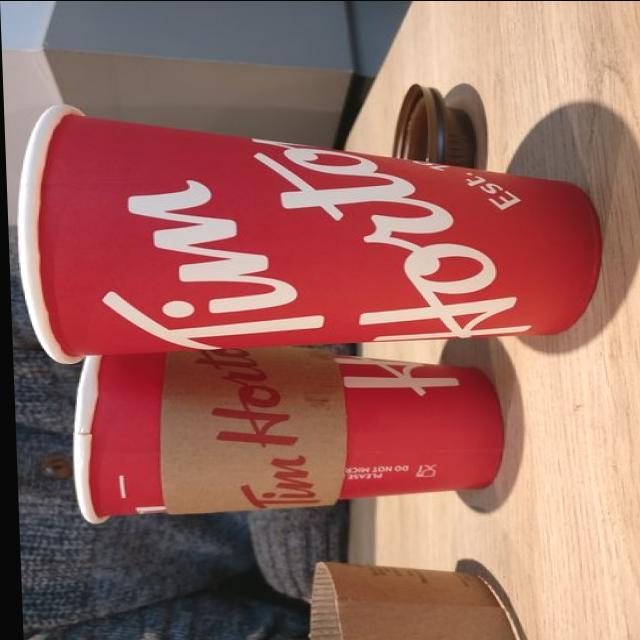timmies: (8, 100, 607, 370), (60, 347, 509, 526)
